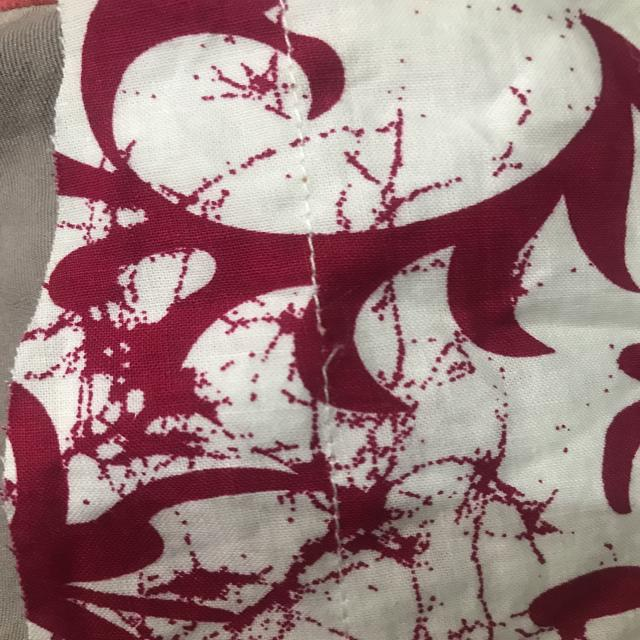broken: (310, 310, 351, 384)
